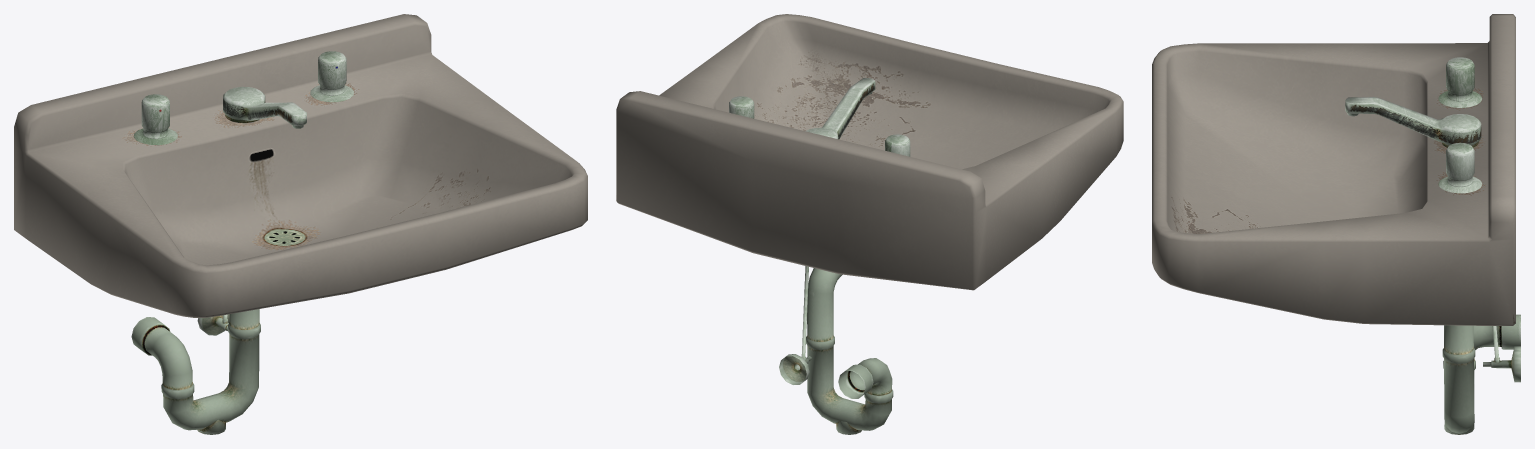
The model's file is SM_Sink.FBX.
3 renders of one model, left to right at view 1: azimuth 30°, elevation 25°; view 2: azimuth 150°, elevation 25°; view 3: azimuth 270°, elevation 25°, orthographic. The views are drawn at different scales.
Parts seen in each view (by area): view 1: SM_Sink_LOD0; view 2: SM_Sink_LOD0; view 3: SM_Sink_LOD0.
Boxes of the visible parts, x1=… form: SM_Sink_LOD0: x1=14, y1=14, x2=587, y2=434; SM_Sink_LOD0: x1=616, y1=14, x2=1123, y2=434; SM_Sink_LOD0: x1=1152, y1=14, x2=1520, y2=434.
Size of what is drawn, in the model's own units: 60 by 48.84 by 47.42.
